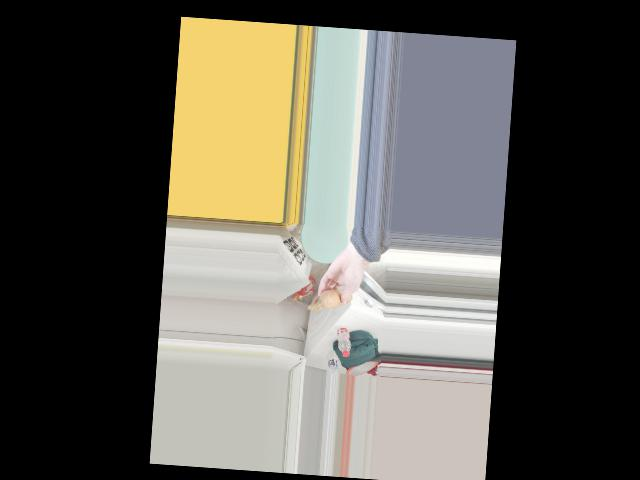sweet_potato: (319, 289, 348, 310)
